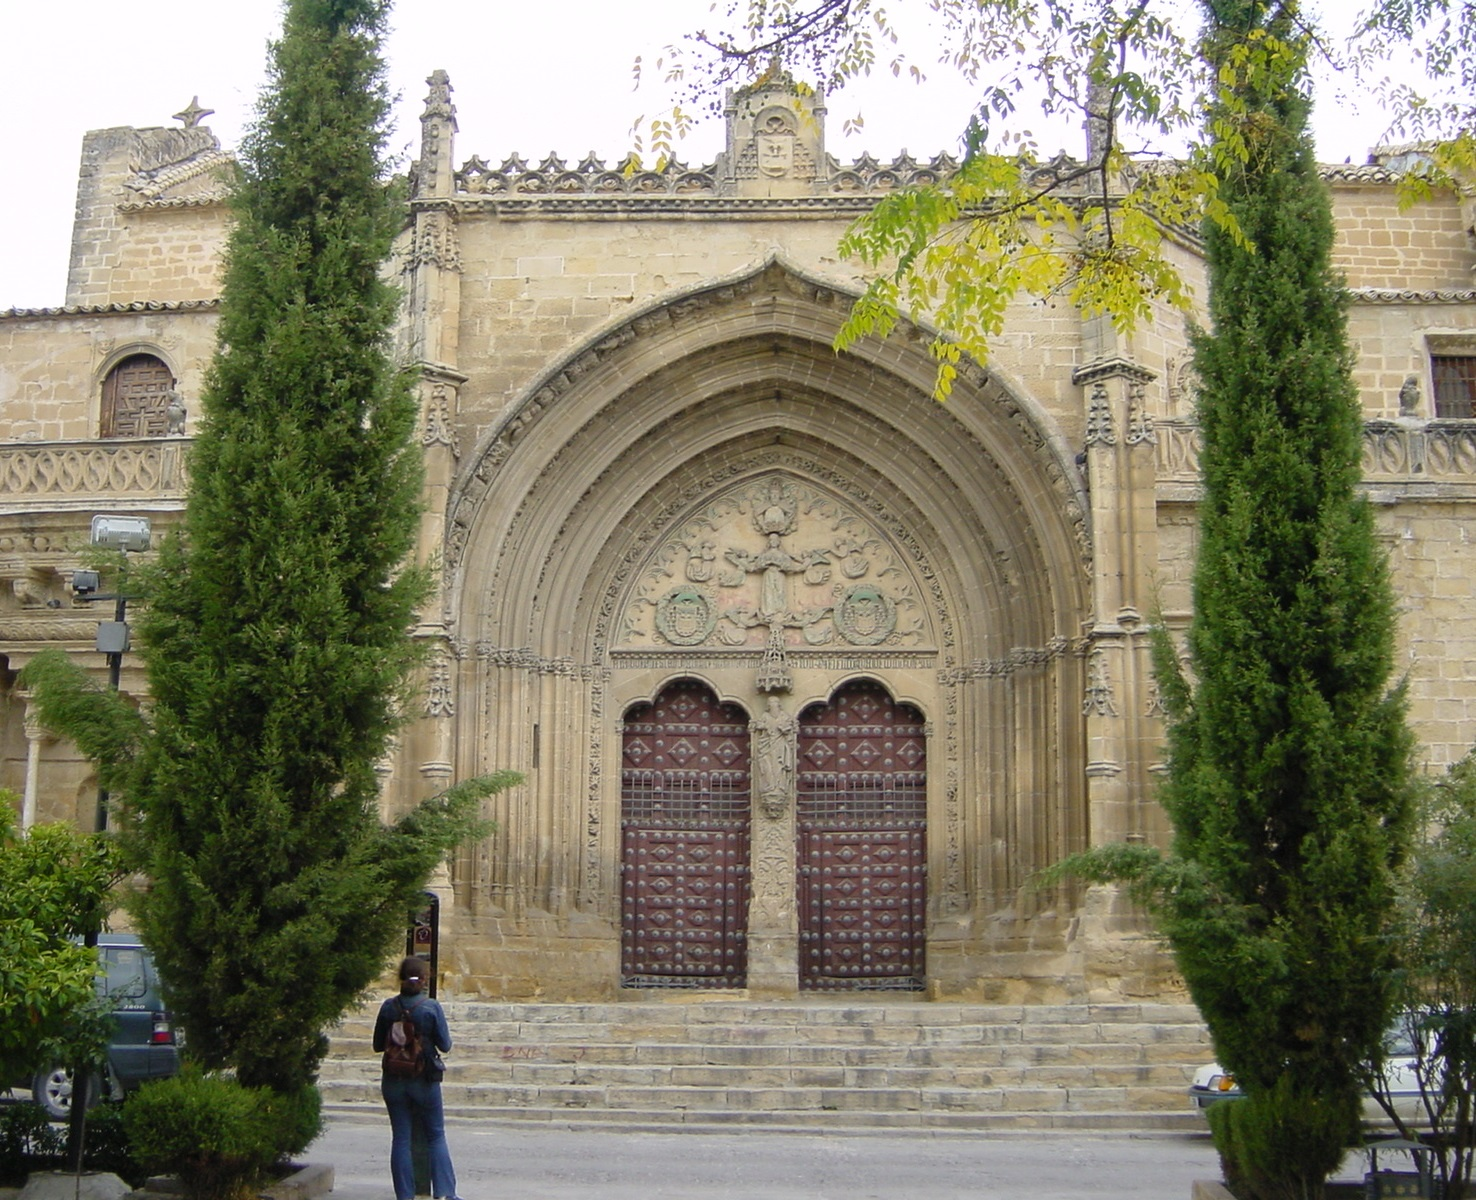arco-apuntado: (494, 324, 1062, 667)
arco-conopial: (629, 245, 917, 316)
arco-trilobulado: (792, 669, 933, 733), (614, 667, 754, 729)
